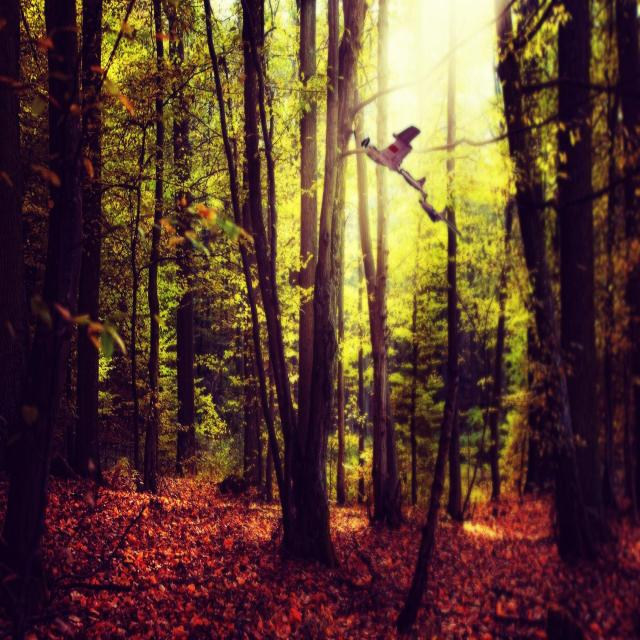airplane: (361, 123, 462, 237)
